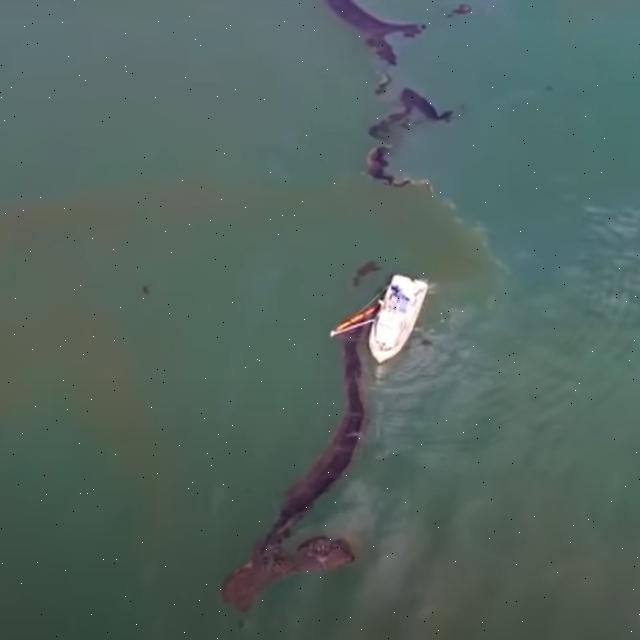truecolor: (222, 320, 366, 612), (325, 0, 425, 64), (368, 87, 453, 141), (367, 145, 411, 186), (448, 4, 471, 16)
